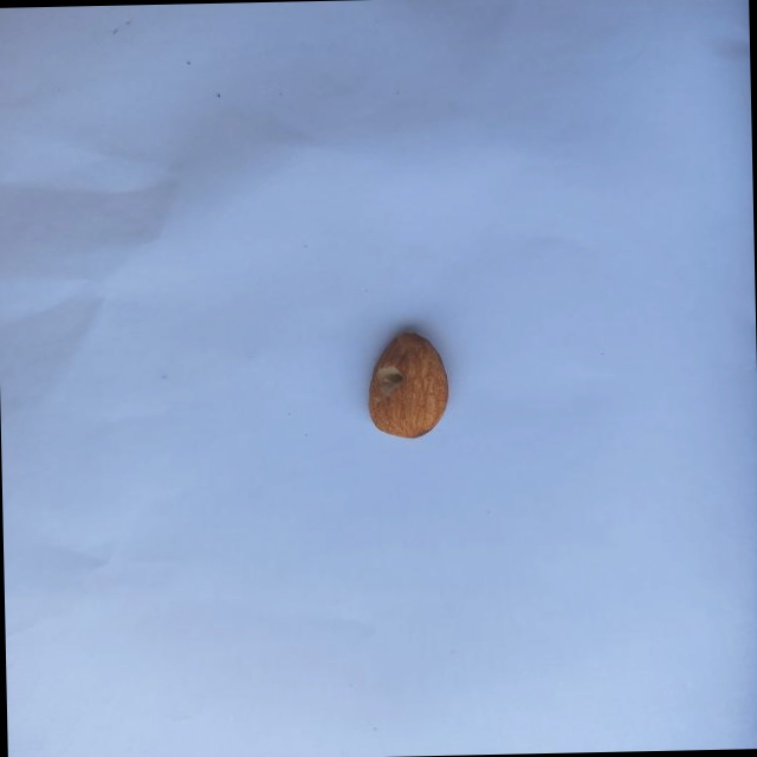grade3: (361, 326, 452, 444)
